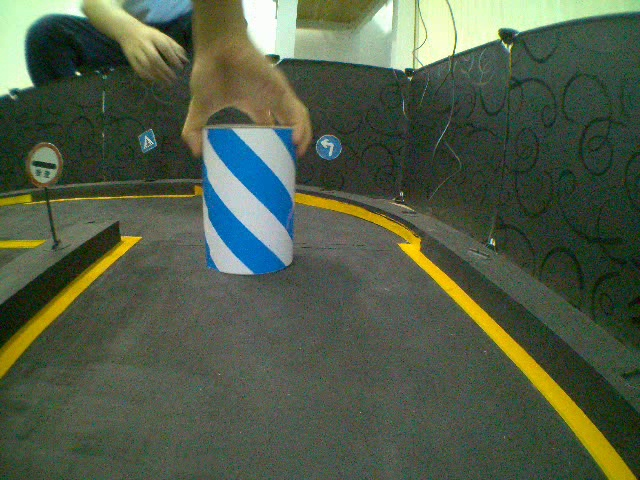bucket: (200, 121, 296, 277)
